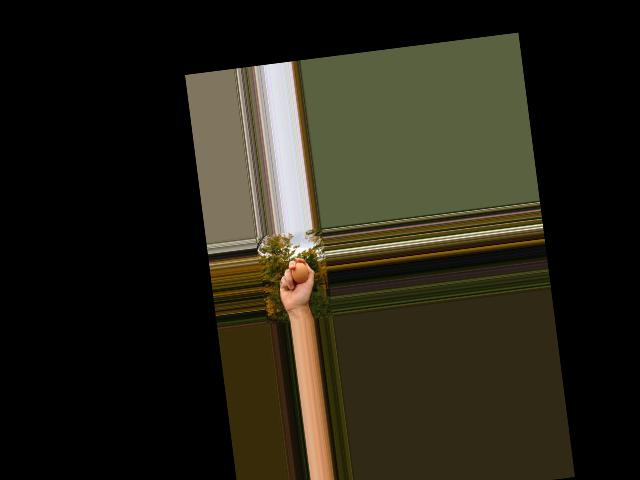egg: (289, 261, 308, 284)
